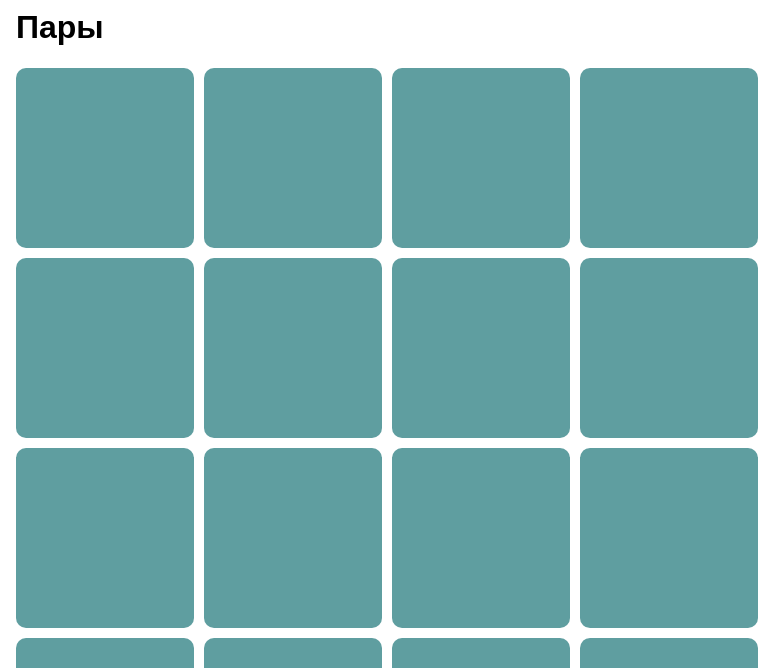
Игра пара › Тест 2
This screenshot has width=775, height=668.
Click the 1st text "2": click(293, 348) [204,258,382,438]
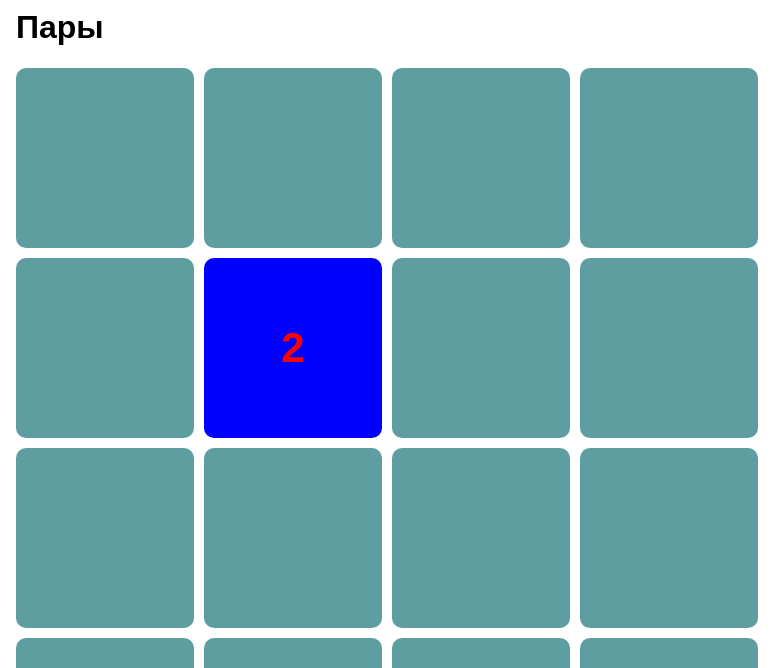
Expected: the text with class "open" is shown, [204,258,382,438]
